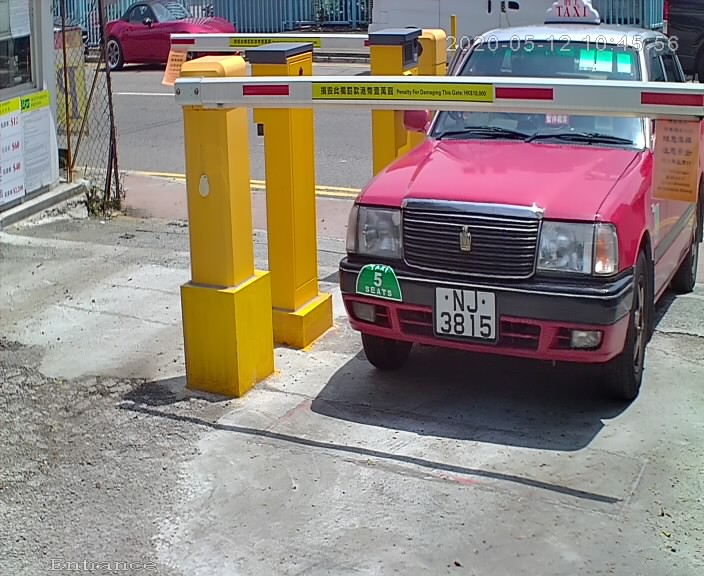taxi: (323, 1, 704, 443)
taxi_mark: (348, 259, 411, 310)
